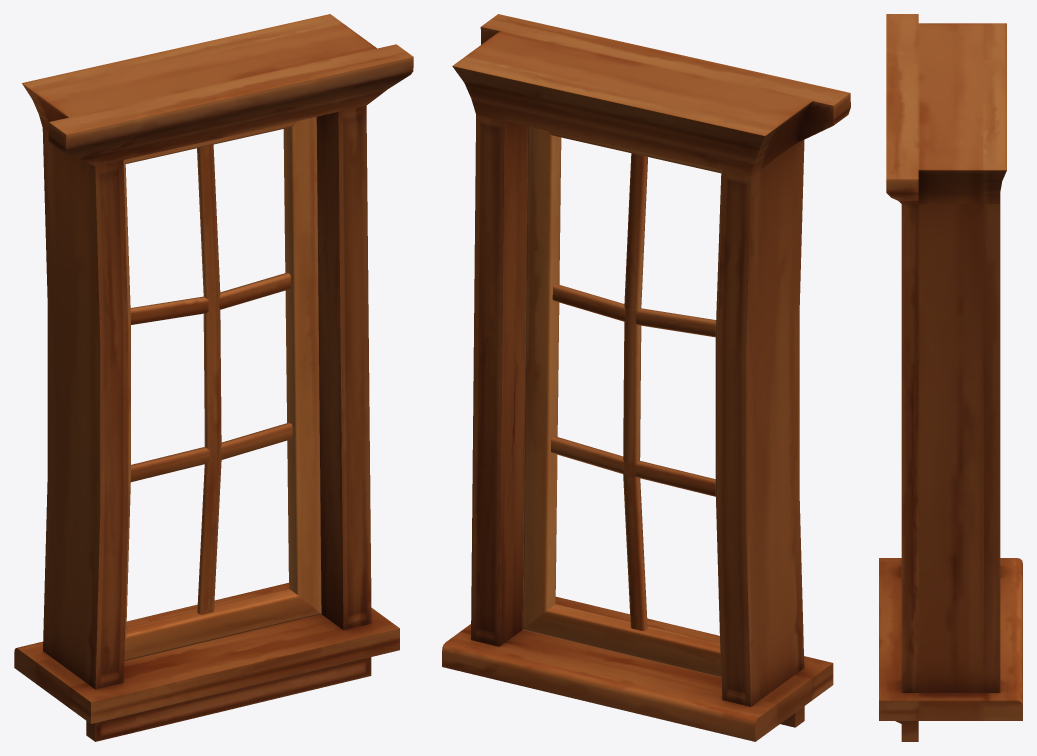
Rendered from PropWindow01TypeF_2_1.FBX.
3 views of the same model, side by side, from view 1: azimuth 30°, elevation 25°; view 2: azimuth 150°, elevation 25°; view 3: azimuth 270°, elevation 25° (orthographic). The views are drawn at different scales.
Parts seen in each view (by area): view 1: PropWindow01TypeF_2_1; view 2: PropWindow01TypeF_2_1; view 3: PropWindow01TypeF_2_1.
Part boxes in pixels (x1,y1,x2,y2): PropWindow01TypeF_2_1: (14, 14, 413, 741); PropWindow01TypeF_2_1: (442, 14, 850, 741); PropWindow01TypeF_2_1: (879, 14, 1022, 741).
Size of what is drawn, in the model's own units: 1.16 by 1.99 by 0.4449.
